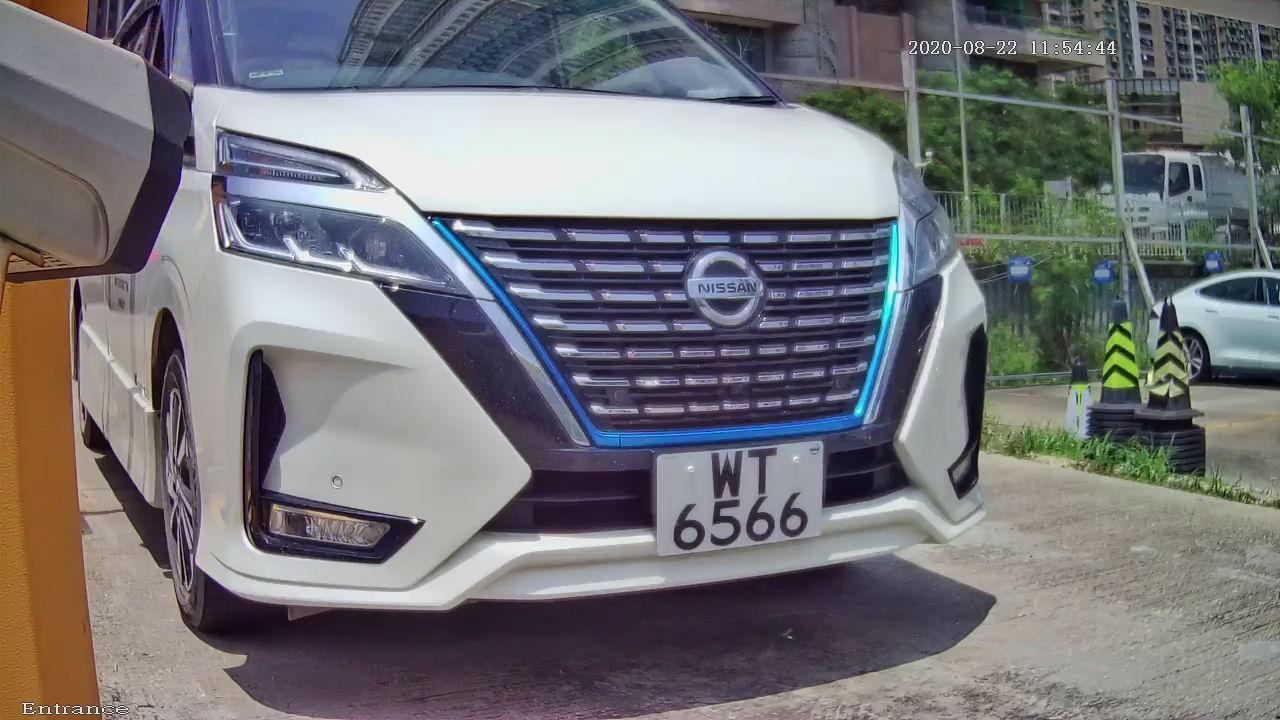Car: (63, 1, 1058, 695)
License Plate: (635, 425, 835, 576)
